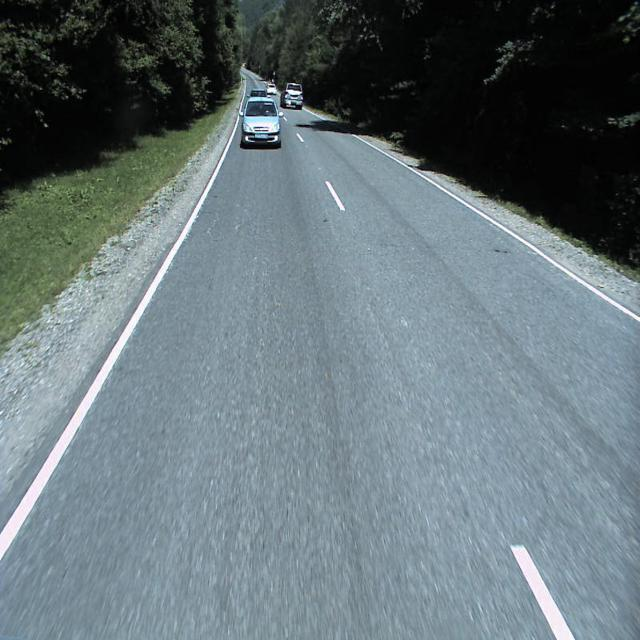road: (0, 94, 640, 639), (240, 70, 264, 111)
